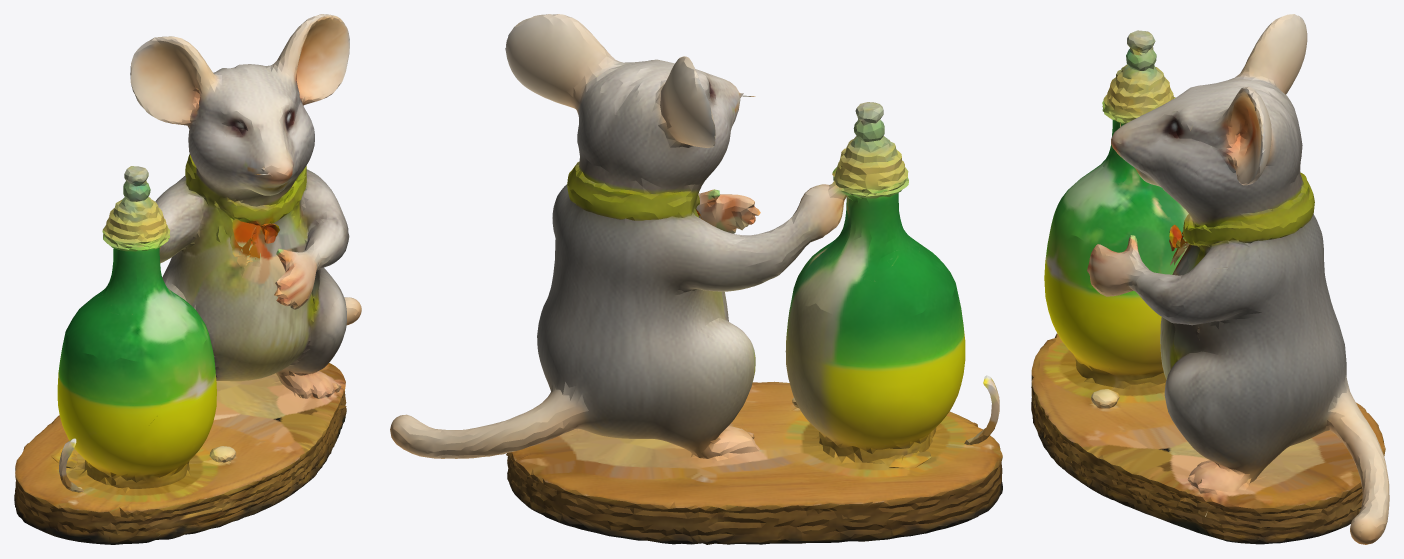
3 views of the same model, side by side, from view 1: azimuth 30°, elevation 25°; view 2: azimuth 150°, elevation 25°; view 3: azimuth 270°, elevation 25° (orthographic). The views are drawn at different scales.
Parts seen in each view (by area): view 1: RenewStrength; view 2: RenewStrength; view 3: RenewStrength.
Part boxes in pixels (<box>): RenewStrength: <box>14,14,361,544</box>; RenewStrength: <box>390,14,1002,544</box>; RenewStrength: <box>1031,14,1389,544</box>.
Size of the model in its own units: 1.89 by 1.67 by 1.21.
Materials: 1 (1 with a texture image).
